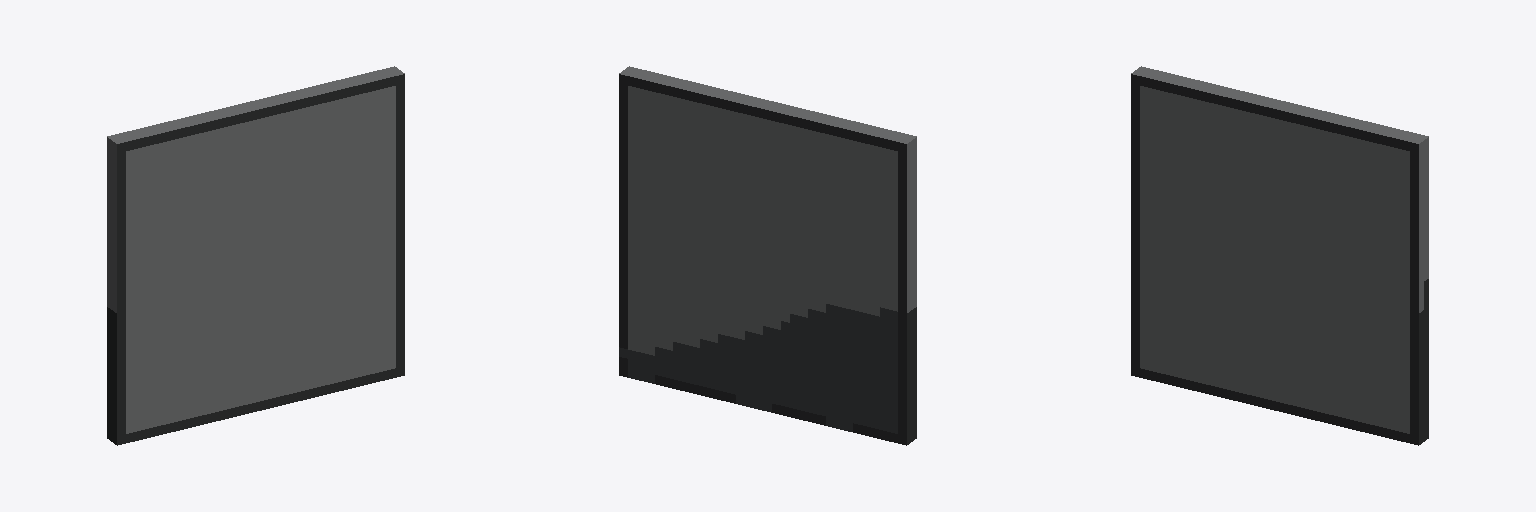
The picture shows the model from 3 angles: view 1: azimuth 30°, elevation 25°; view 2: azimuth 150°, elevation 25°; view 3: azimuth 330°, elevation 25°; orthographic projection.
Visible parts, largest first — view 1: mesh; view 2: mesh; view 3: mesh.
Boxes of the visible parts, x1,y1,x2,y2 form: mesh: [107, 66, 404, 445]; mesh: [619, 66, 916, 445]; mesh: [1131, 66, 1428, 445].
Bounding box in the file's own units: 2 × 2 × 0.125.
Materials: 1 (1 with a texture image).